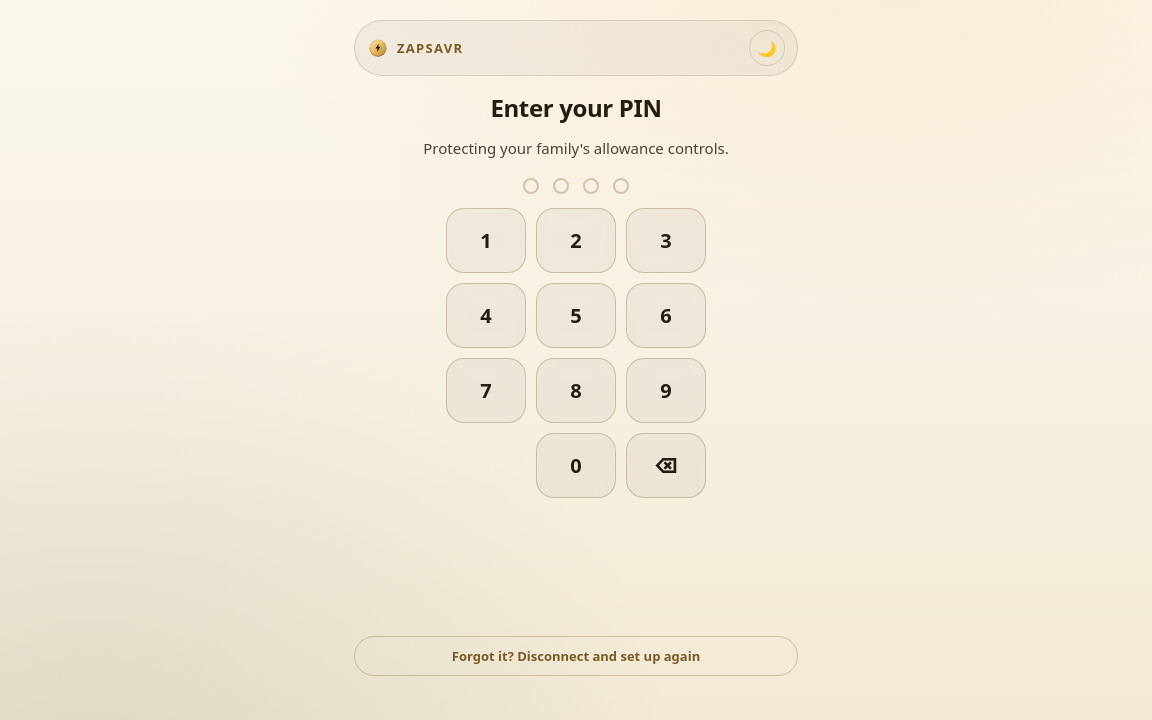
Test: ParentFlow PIN gate — the local access-control property this codebase owns › a wrong PIN does not unlock — no family data is revealed
Click the button "0".
click(576, 465)  # box x1=536 y1=433 x2=616 y2=498
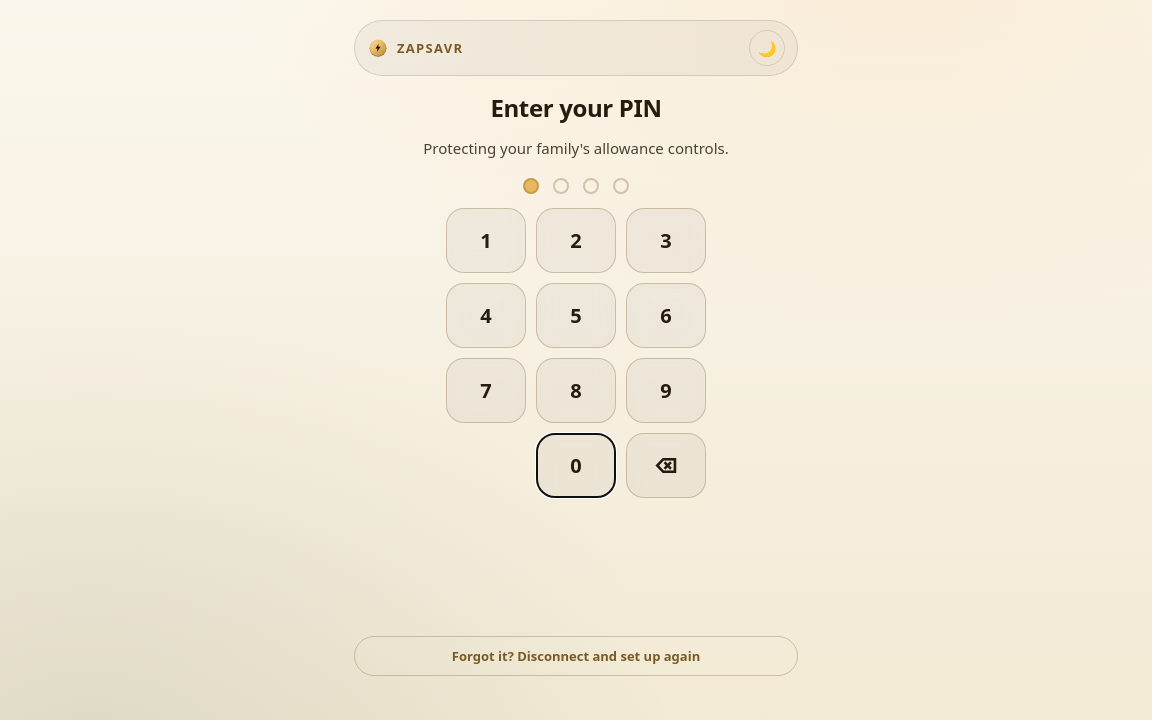
Click the button "0".
click(576, 465)  # box x1=536 y1=433 x2=616 y2=498
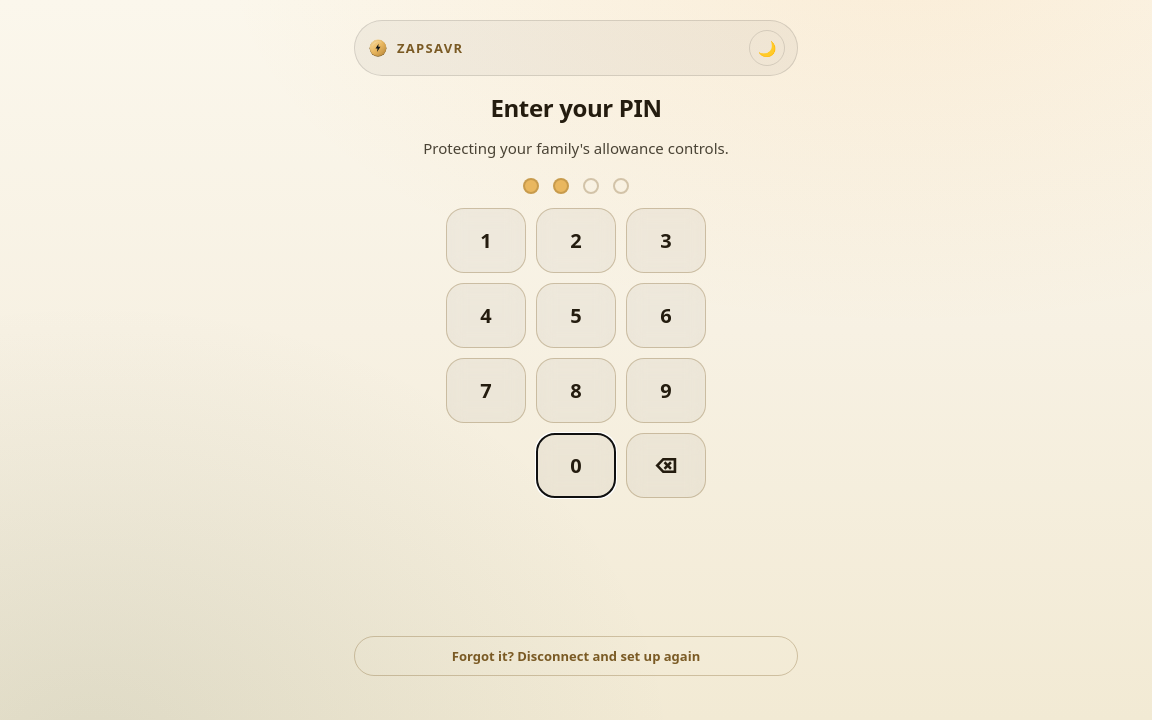
Click the button "0".
click(576, 465)  # box x1=536 y1=433 x2=616 y2=498
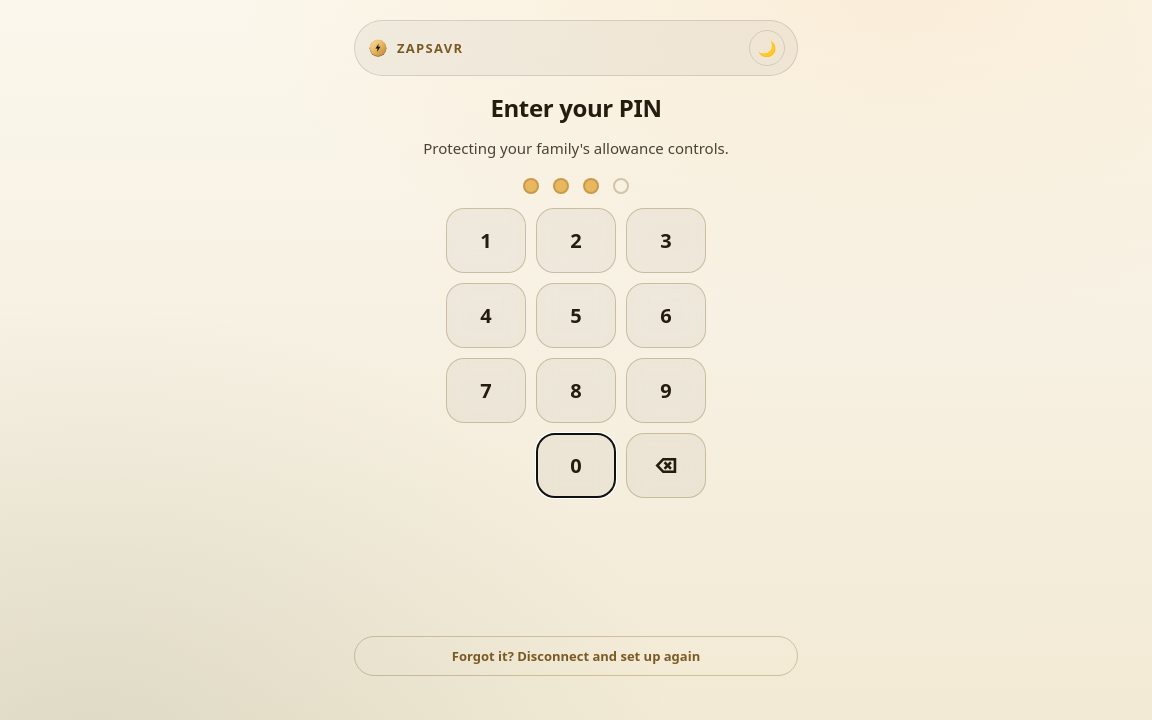
Click the button "0".
click(576, 465)  # box x1=536 y1=433 x2=616 y2=498
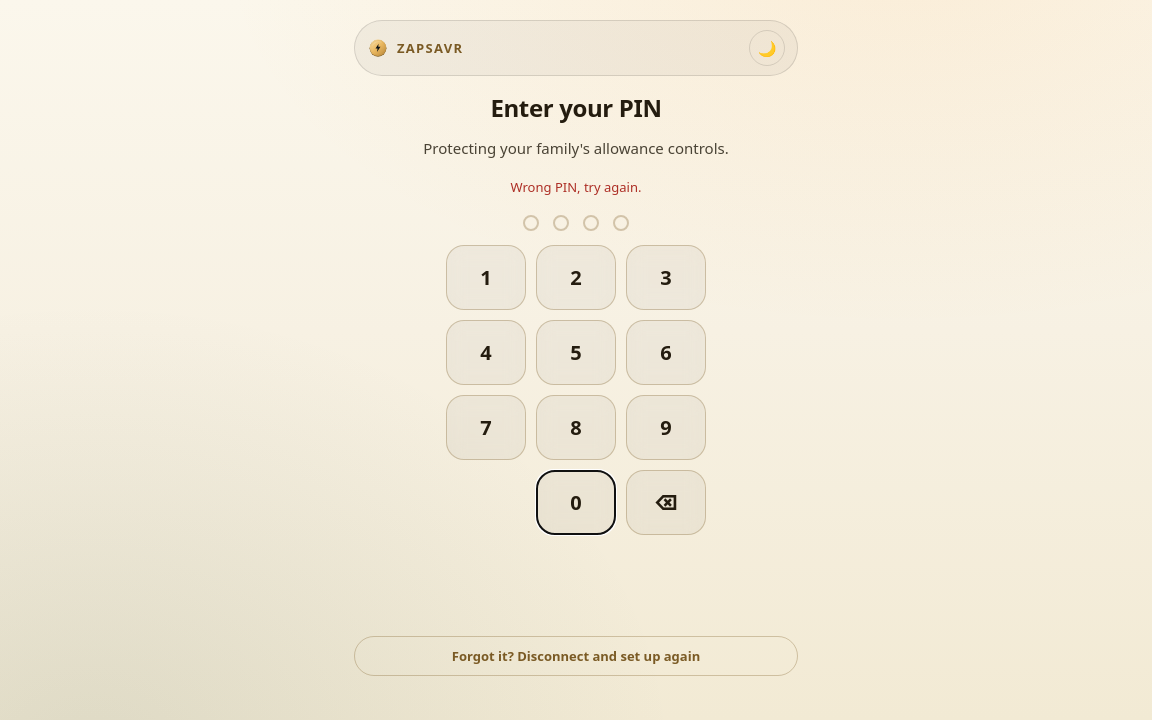
Expected: the text "Wrong PIN, try again." is shown, x1=510 y1=178 x2=641 y2=196
